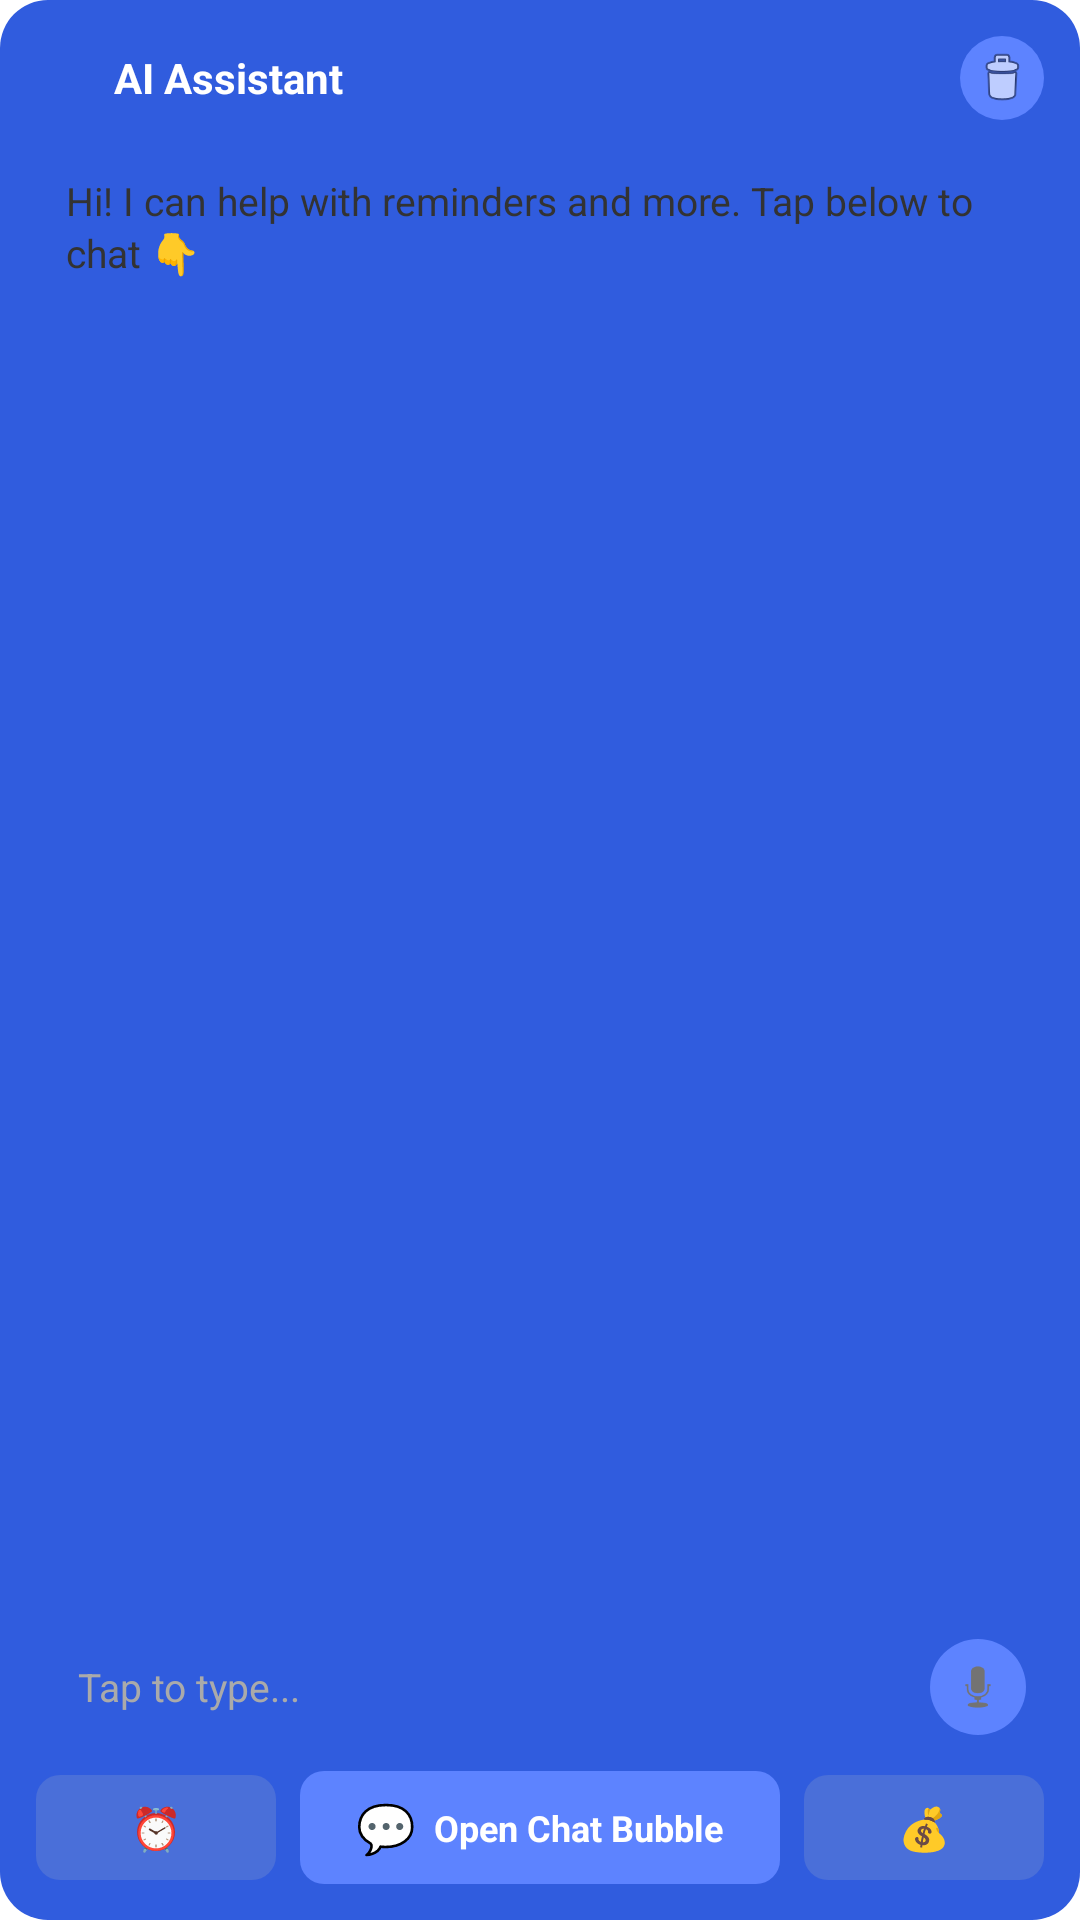

Icon click points for this 1080 x 1920 phone screenshot, format point (x, y):
Clear chat: point (1002, 78)
Voice input: point (978, 1687)
